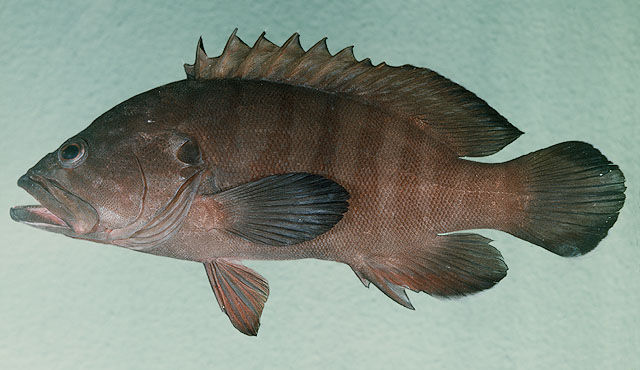fish: (11, 29, 625, 338)
